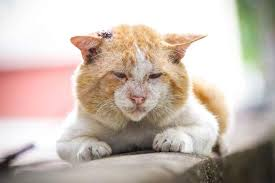Gato: (68, 19, 220, 162)
